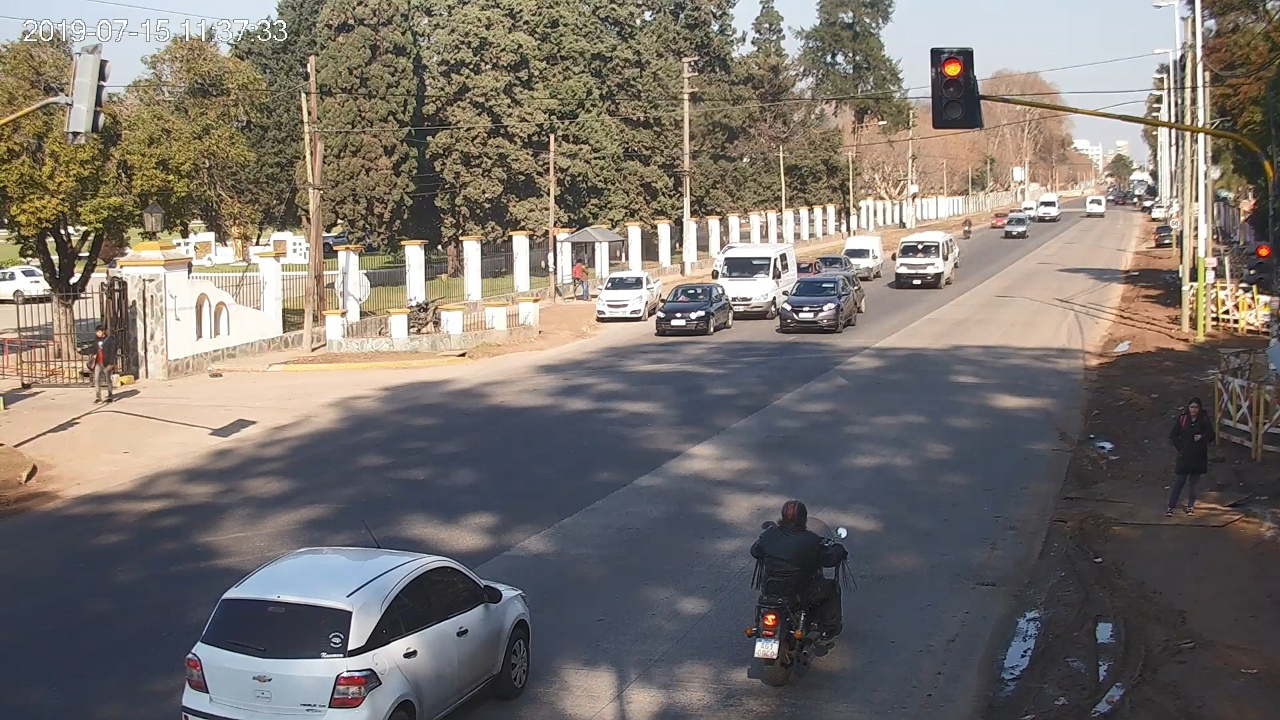car: (181, 544, 531, 720)
front car: (780, 274, 857, 334), (656, 283, 734, 336)
motorcycle: (746, 525, 849, 686)
traffic light: (939, 54, 966, 122), (1256, 242, 1271, 289)
